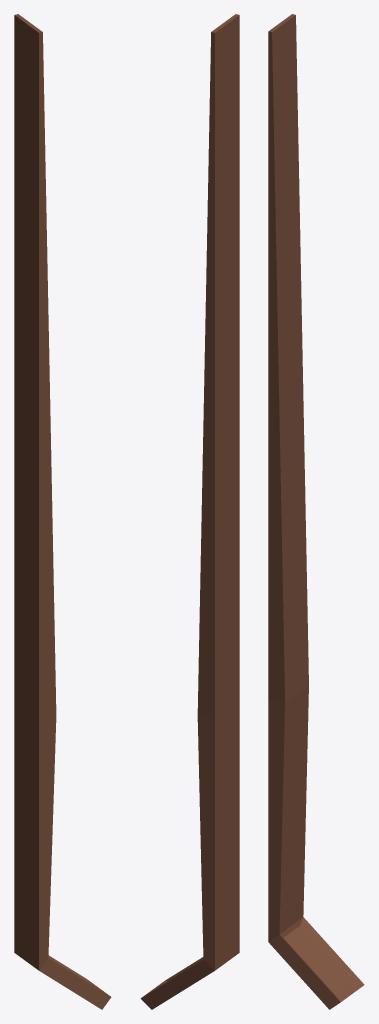
Rendered from Matcha_Stick.fbx.
The picture shows the model from 3 angles, left to right: view 1: azimuth 30°, elevation 25°; view 2: azimuth 150°, elevation 25°; view 3: azimuth 330°, elevation 25°; orthographic projection. The views are drawn at different scales.
Parts seen in each view (by area): view 1: Matcha_Stick; view 2: Matcha_Stick; view 3: Matcha_Stick.
Boxes of the visible parts, box(x1,y1,x2,y2) form: Matcha_Stick: box(14, 14, 111, 1009); Matcha_Stick: box(140, 14, 239, 1009); Matcha_Stick: box(268, 14, 364, 1009).
Size of the model in its own units: 0.0288 by 0.3711 by 0.0174.
